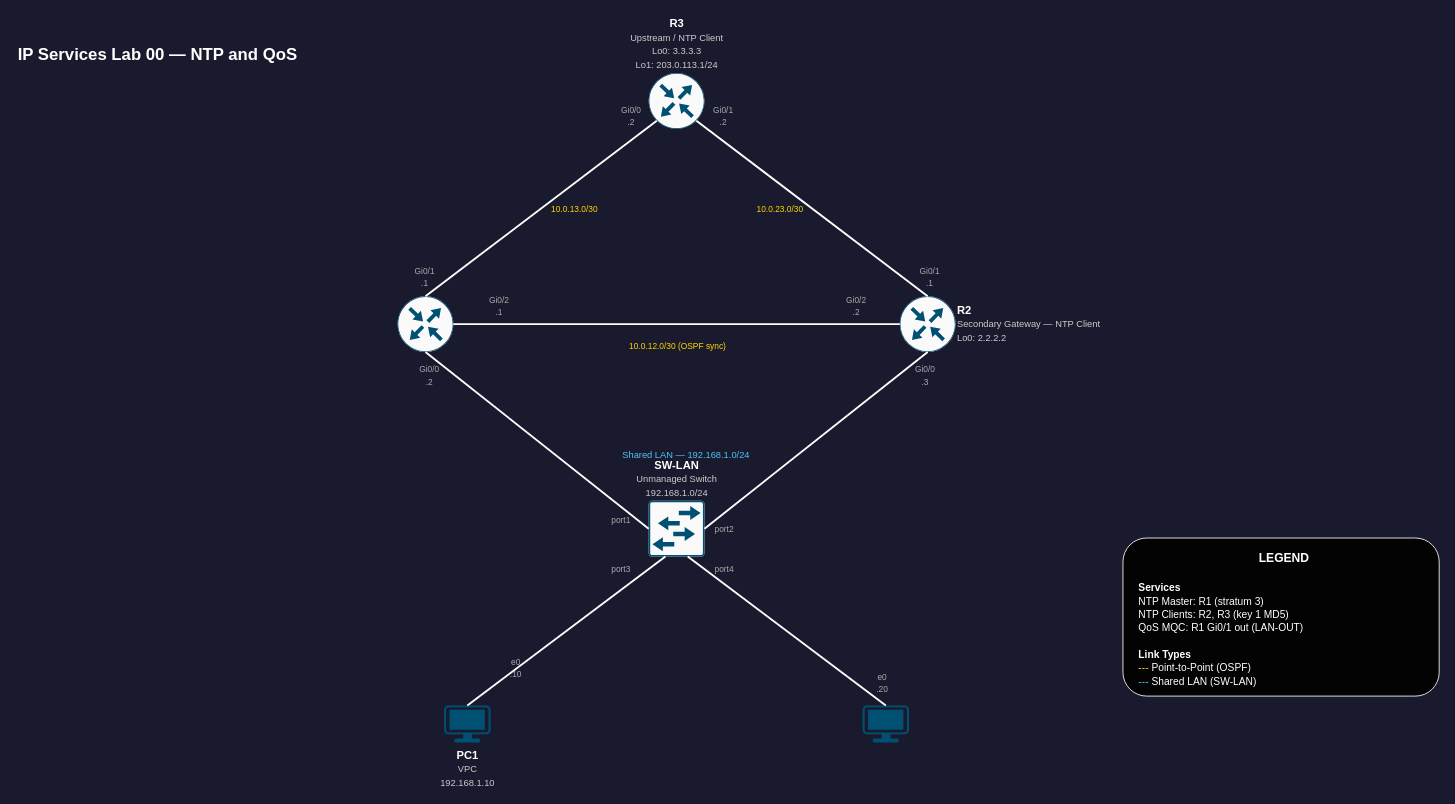
Image size: 1455x804. Some labels were removed from this diagram. Here are the shapes that lost their labels. From the top down, the centre of each, then its label:
At pixel 425 323: "R1 Primary Gateway — NTP Master Lo0: 1.1.1.1".
At pixel 885 723: "PC2 VPC 192.168.1.20".
